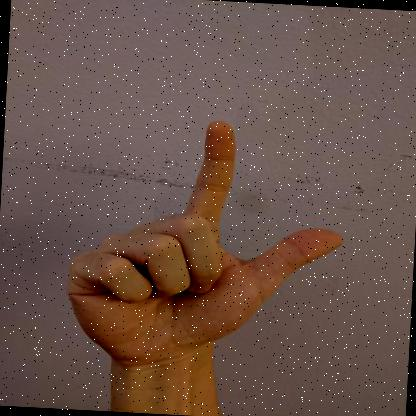L: (67, 120, 342, 375)
